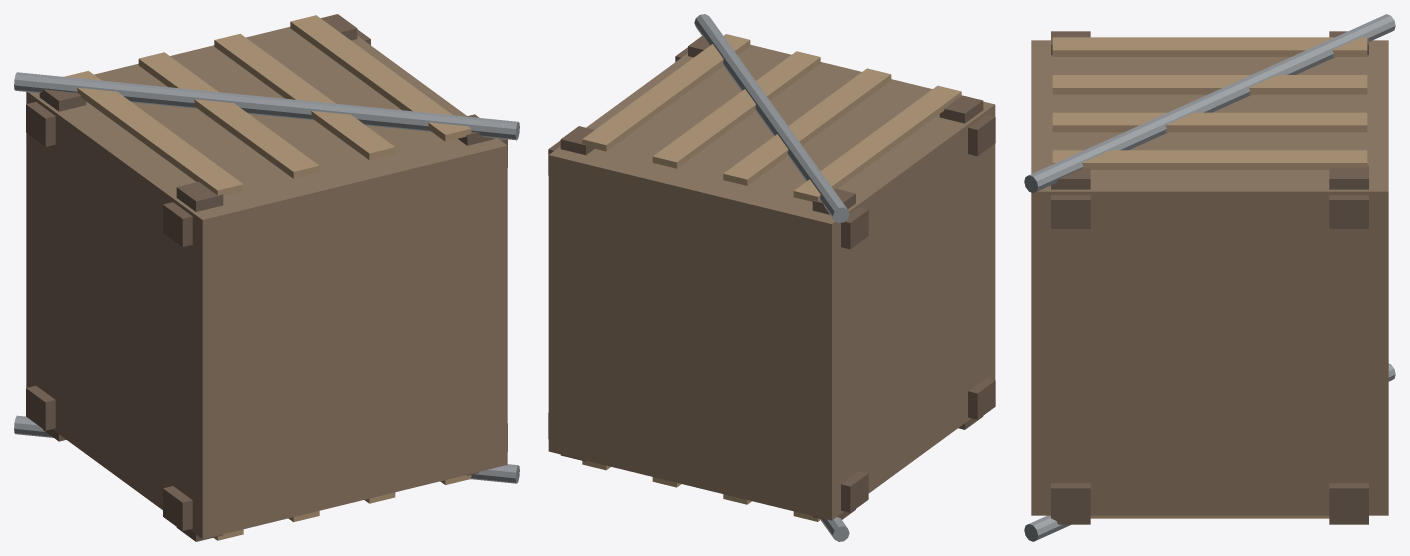
Rendered from SM_WoodenCrate.glb.
3 renders of one model, left to right at view 1: azimuth 30°, elevation 25°; view 2: azimuth 150°, elevation 25°; view 3: azimuth 270°, elevation 25°, orthographic. The views are drawn at different scales.
Visible parts, largest first — view 1: SM_WoodenCrate_008, SM_WoodenCrate_018, SM_WoodenCrate_016, SM_WoodenCrate_015, SM_WoodenCrate_017, SM_WoodenCrate_014, SM_WoodenCrate_013, SM_WoodenCrate_001, SM_WoodenCrate_006, SM_WoodenCrate_000, SM_WoodenCrate_002, SM_WoodenCrate_003 (+1 smaller); view 2: SM_WoodenCrate_008, SM_WoodenCrate_016, SM_WoodenCrate_015, SM_WoodenCrate_017, SM_WoodenCrate_014, SM_WoodenCrate_018, SM_WoodenCrate_000, SM_WoodenCrate_001, SM_WoodenCrate_003, SM_WoodenCrate_006, SM_WoodenCrate_002, SM_WoodenCrate_005; view 3: SM_WoodenCrate_008, SM_WoodenCrate_018, SM_WoodenCrate_016, SM_WoodenCrate_014, SM_WoodenCrate_015, SM_WoodenCrate_017, SM_WoodenCrate_000, SM_WoodenCrate_001, SM_WoodenCrate_002, SM_WoodenCrate_003, SM_WoodenCrate_005, SM_WoodenCrate_012 (+2 smaller).
Part boxes in pixels (bbox=[...]): SM_WoodenCrate_008: bbox=[26, 27, 507, 539]; SM_WoodenCrate_018: bbox=[14, 72, 519, 140]; SM_WoodenCrate_016: bbox=[214, 33, 395, 160]; SM_WoodenCrate_015: bbox=[138, 52, 319, 178]; SM_WoodenCrate_017: bbox=[290, 15, 471, 141]; SM_WoodenCrate_014: bbox=[64, 71, 243, 195]; SM_WoodenCrate_013: bbox=[14, 415, 519, 483]; SM_WoodenCrate_001: bbox=[26, 29, 370, 146]; SM_WoodenCrate_006: bbox=[176, 181, 223, 541]; SM_WoodenCrate_000: bbox=[163, 138, 507, 247]; SM_WoodenCrate_002: bbox=[163, 423, 507, 530]; SM_WoodenCrate_003: bbox=[26, 385, 55, 430]; SM_WoodenCrate_008: bbox=[548, 44, 995, 520]; SM_WoodenCrate_016: bbox=[652, 51, 820, 168]; SM_WoodenCrate_015: bbox=[723, 68, 891, 185]; SM_WoodenCrate_017: bbox=[582, 34, 750, 151]; SM_WoodenCrate_014: bbox=[793, 85, 961, 201]; SM_WoodenCrate_018: bbox=[694, 14, 849, 222]; SM_WoodenCrate_000: bbox=[675, 47, 995, 156]; SM_WoodenCrate_001: bbox=[548, 140, 868, 249]; SM_WoodenCrate_003: bbox=[548, 413, 868, 512]; SM_WoodenCrate_006: bbox=[939, 95, 983, 429]; SM_WoodenCrate_002: bbox=[968, 378, 995, 419]; SM_WoodenCrate_005: bbox=[560, 126, 594, 461]; SM_WoodenCrate_008: bbox=[1031, 40, 1388, 515]; SM_WoodenCrate_018: bbox=[1024, 14, 1395, 193]; SM_WoodenCrate_016: bbox=[1052, 112, 1367, 132]; SM_WoodenCrate_014: bbox=[1052, 37, 1367, 56]; SM_WoodenCrate_015: bbox=[1052, 75, 1367, 94]; SM_WoodenCrate_017: bbox=[1052, 150, 1367, 169]; SM_WoodenCrate_000: bbox=[1051, 195, 1090, 228]; SM_WoodenCrate_001: bbox=[1329, 195, 1368, 228]; SM_WoodenCrate_002: bbox=[1051, 483, 1090, 516]; SM_WoodenCrate_003: bbox=[1329, 483, 1368, 516]; SM_WoodenCrate_005: bbox=[1329, 165, 1368, 524]; SM_WoodenCrate_012: bbox=[1090, 515, 1329, 518].
Bounding box in the file's own units: 0.9928 × 1.01 × 0.935.
